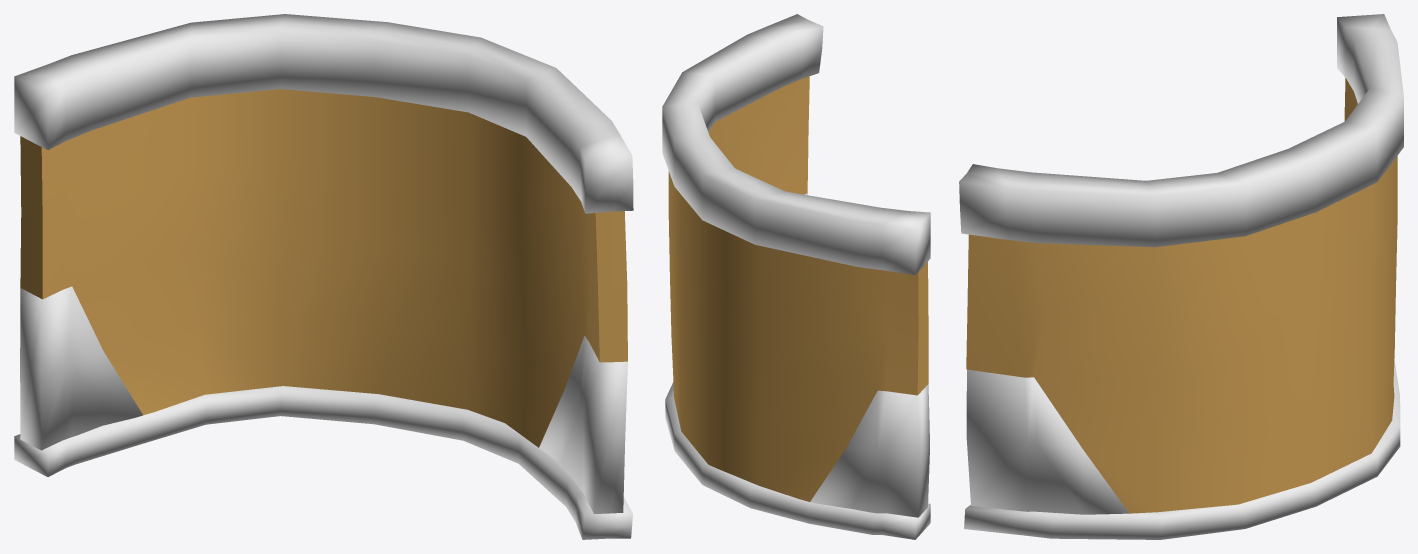
File: wall platform_curved.fbx
The picture shows the model from 3 angles, left to right: view 1: azimuth 30°, elevation 25°; view 2: azimuth 150°, elevation 25°; view 3: azimuth 270°, elevation 25°; orthographic projection. The views are drawn at different scales.
Visible parts, largest first — view 1: Cube.111; view 2: Cube.111; view 3: Cube.111.
Part boxes in pixels (x1,y1,x2,y2): Cube.111: [14, 14, 633, 539]; Cube.111: [662, 14, 930, 539]; Cube.111: [959, 14, 1403, 539].
Bounding box in the file's own units: 484 × 431 × 499.
